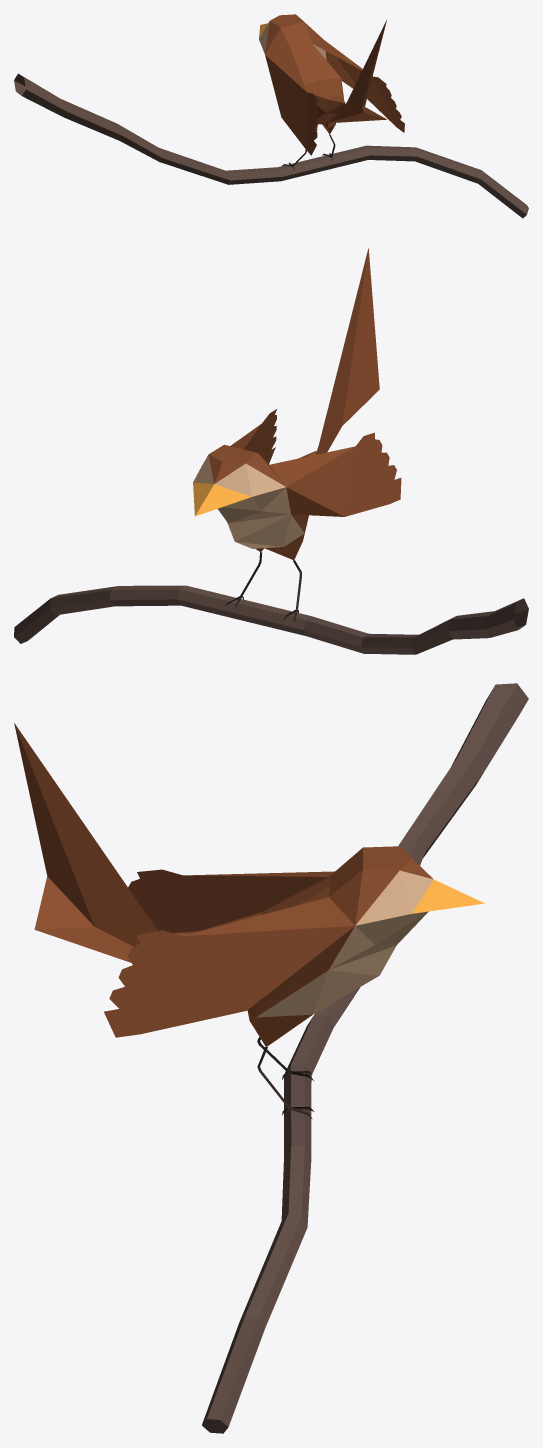
Rendered from low_poly_bird.glb.
3 views of the same model, one above another, from view 1: azimuth 30°, elevation 25°; view 2: azimuth 150°, elevation 25°; view 3: azimuth 270°, elevation 25° (orthographic). The views are drawn at different scales.
Parts seen in each view (by area): view 1: Plane.001, Circle, Plane.002; view 2: Plane.001, Circle, Plane.002; view 3: Plane.001, Circle, Plane.002.
Boxes of the visible parts, x1=… form: Plane.001: x1=259, y1=14, x2=404, y2=170; Circle: x1=14, y1=73, x2=528, y2=218; Plane.002: x1=326, y1=20, x2=386, y2=123; Plane.001: x1=193, y1=409, x2=401, y2=622; Circle: x1=14, y1=585, x2=528, y2=654; Plane.002: x1=316, y1=248, x2=379, y2=454; Plane.001: x1=104, y1=846, x2=484, y2=1119; Circle: x1=202, y1=683, x2=528, y2=1433; Plane.002: x1=14, y1=723, x2=157, y2=962.
Size of the model in its own units: 20.17 by 12.66 by 11.
